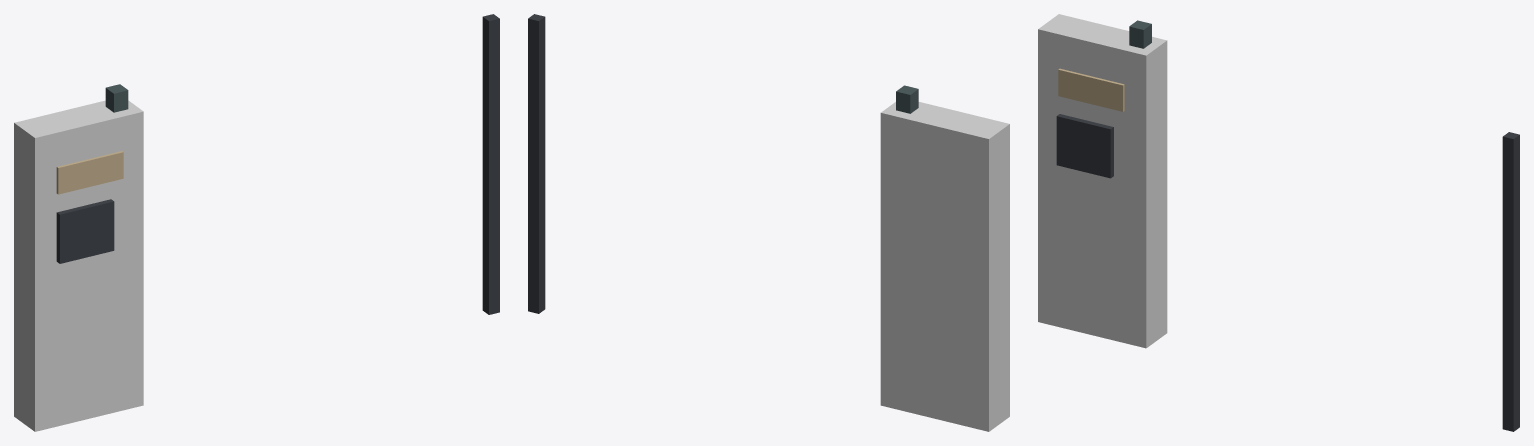
File: gate.fbx
3 views of the same model, side by side, from view 1: azimuth 30°, elevation 25°; view 2: azimuth 150°, elevation 25°; view 3: azimuth 330°, elevation 25° (orthographic).
Visible parts, largest first — view 1: a2000/800/gate; view 2: a2000/800/gate; view 3: a2000/800/gate.
Part boxes in pixels (x1,y1,x2,y2): a2000/800/gate: (14, 14, 499, 431); a2000/800/gate: (528, 14, 1009, 431); a2000/800/gate: (1038, 14, 1519, 431).
Bounding box in the file's own units: 2.6 × 1.65 × 0.23.
